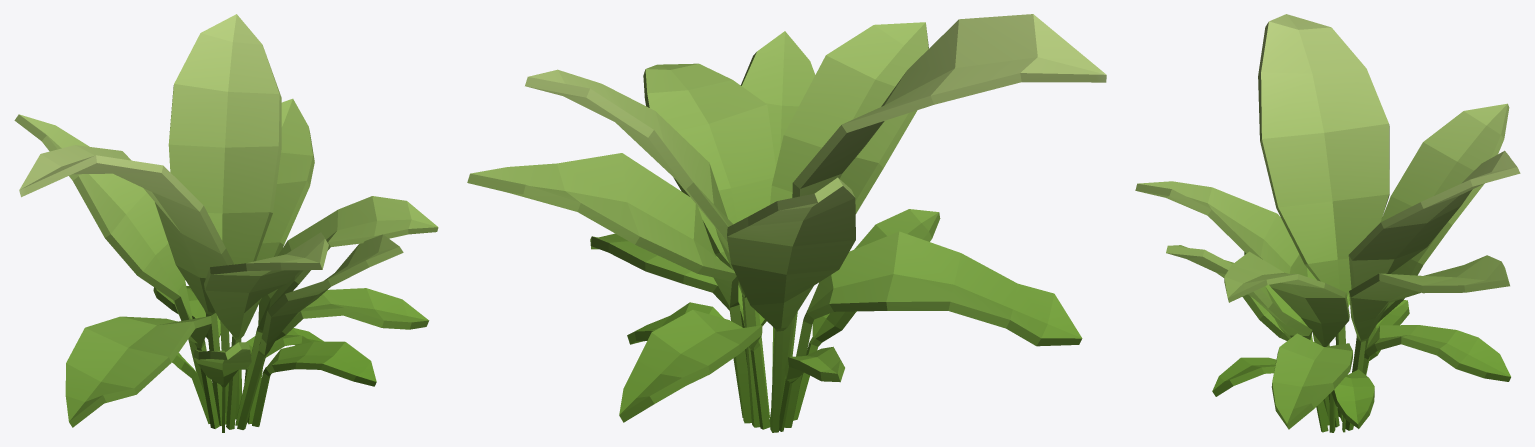
Rendered from shrub-3.glb.
The picture shows the model from 3 angles, left to right: view 1: azimuth 30°, elevation 25°; view 2: azimuth 150°, elevation 25°; view 3: azimuth 270°, elevation 25°; orthographic projection. The views are drawn at different scales.
Parts seen in each view (by area): view 1: shrub 3; view 2: shrub 3; view 3: shrub 3.
Boxes of the visible parts, left/top/right/bottom form: shrub 3: left=14, top=14, right=438, bottom=432; shrub 3: left=467, top=14, right=1106, bottom=432; shrub 3: left=1135, top=14, right=1520, bottom=432.
Size of the model in its own units: 0.9589 by 0.7554 by 0.8191.
Materials: 1 (1 with a texture image).
